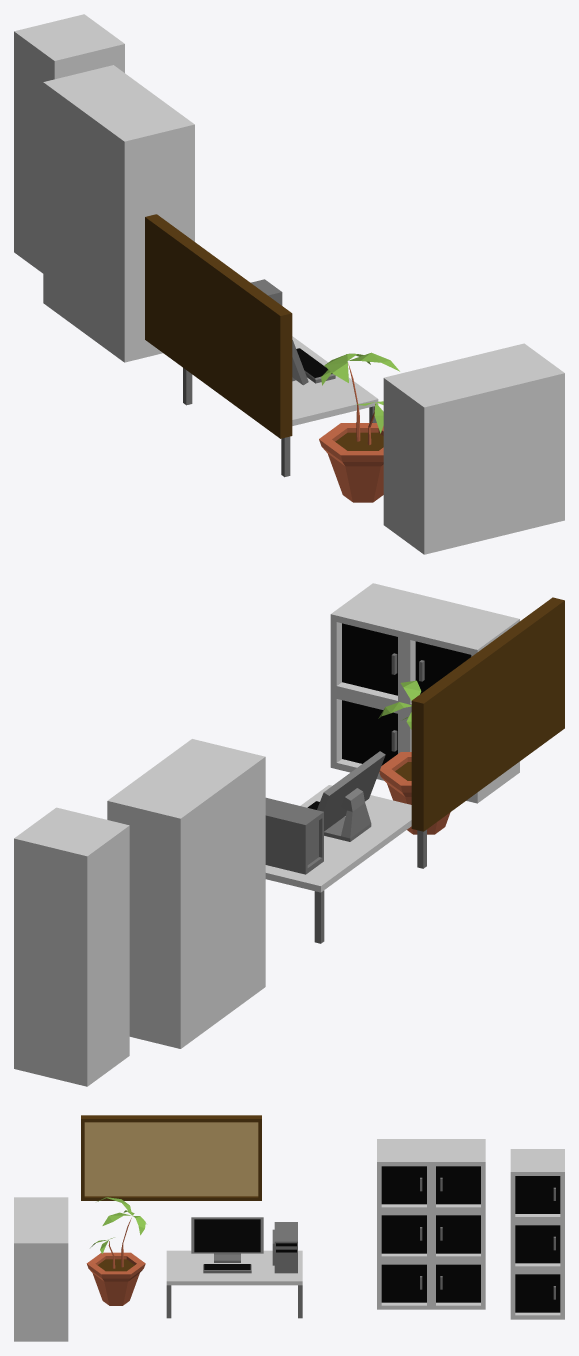
Rendered from officeFurnitureLowPoly.fbx.
3 renders of one model, top to bottom at view 1: azimuth 30°, elevation 25°; view 2: azimuth 150°, elevation 25°; view 3: azimuth 270°, elevation 25°, orthographic. The views are drawn at different scales.
Parts seen in each view (by area): view 1: furniture, Base, board, furniture.001, pot, table, PC; view 2: furniture, furniture.001, board, Base, PC, table, pot; view 3: furniture, board, furniture.001, Base, PC, table, pot.
Boxes of the visible parts, x1,y1,x2,y2 form: furniture: (43,65,194,362); Base: (383,343,564,554); board: (145,214,292,438); furniture.001: (14,14,124,273); pot: (319,352,399,502); table: (183,336,378,477); PC: (251,279,335,385); furniture: (107,739,265,1048); furniture.001: (14,807,129,1086); board: (411,597,564,831); Base: (330,583,519,803); PC: (265,751,385,874); table: (265,785,426,943); pot: (378,680,450,834); furniture: (377,1139,485,1309); board: (81,1115,261,1200); furniture.001: (510,1149,564,1319); Base: (14,1197,68,1341); PC: (191,1217,297,1273); table: (166,1250,302,1318); pot: (86,1197,146,1305).
Size of the model in its own units: 1218 by 366 by 399.
